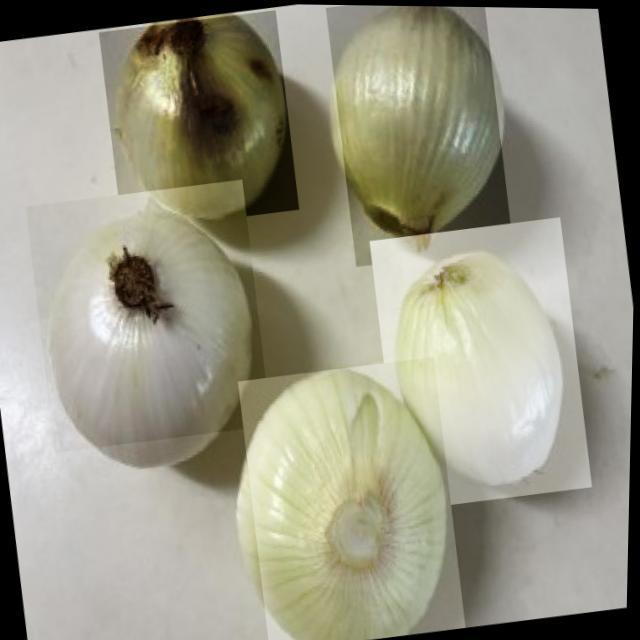Onion: (22, 177, 278, 456), (366, 213, 600, 512), (235, 353, 473, 640), (321, 4, 519, 268), (95, 8, 304, 234)
